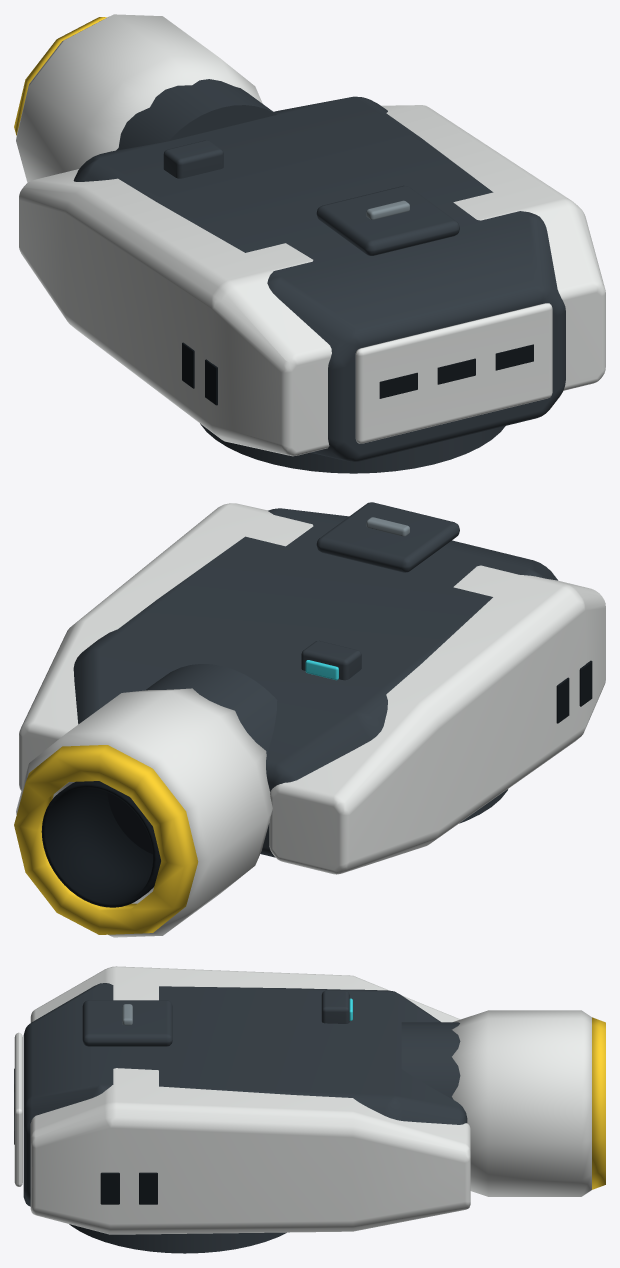
Rendered from scatter.glb.
3 views of the same model, one above another, from view 1: azimuth 30°, elevation 25°; view 2: azimuth 150°, elevation 25°; view 3: azimuth 270°, elevation 25° (orthographic). The views are drawn at different scales.
Visible parts, largest first — view 1: Batch_109 porcelain, Batch_109 mechanism, Batch_109 porcelain.001, Batch_109 mechanism.001, Batch_109 recess, Batch_109 yellow; view 2: Batch_109 porcelain, Batch_109 mechanism, Batch_109 porcelain.001, Batch_109 yellow, Batch_109 recess.001, Batch_109 mechanism.001, Batch_109 recess; view 3: Batch_109 porcelain, Batch_109 mechanism, Batch_109 porcelain.001, Batch_109 mechanism.001, Batch_109 yellow, Batch_109 recess.
Boxes of the visible parts, x1=… form: Batch_109 porcelain: x1=19, y1=105, x2=605, y2=456; Batch_109 mechanism: x1=73, y1=96, x2=565, y2=473; Batch_109 porcelain.001: x1=16, y1=14, x2=262, y2=182; Batch_109 mechanism.001: x1=116, y1=79, x2=276, y2=150; Batch_109 recess: x1=182, y1=342, x2=533, y2=405; Batch_109 yellow: x1=14, y1=17, x2=106, y2=135; Batch_109 porcelain: x1=19, y1=503, x2=605, y2=874; Batch_109 mechanism: x1=73, y1=502, x2=557, y2=857; Batch_109 porcelain.001: x1=16, y1=688, x2=272, y2=937; Batch_109 yellow: x1=14, y1=745, x2=198, y2=934; Batch_109 recess.001: x1=41, y1=781, x2=160, y2=907; Batch_109 mechanism.001: x1=145, y1=664, x2=277, y2=754; Batch_109 recess: x1=556, y1=660, x2=592, y2=723; Batch_109 porcelain: x1=14, y1=966, x2=470, y2=1234; Batch_109 mechanism: x1=23, y1=983, x2=467, y2=1253; Batch_109 porcelain.001: x1=452, y1=1010, x2=591, y2=1196; Batch_109 mechanism.001: x1=401, y1=1022, x2=460, y2=1099; Batch_109 yellow: x1=592, y1=1017, x2=605, y2=1189; Batch_109 recess: x1=14, y1=1068, x2=157, y2=1204.
Bounding box in the file's own units: 1.04 × 0.594 × 1.71.
